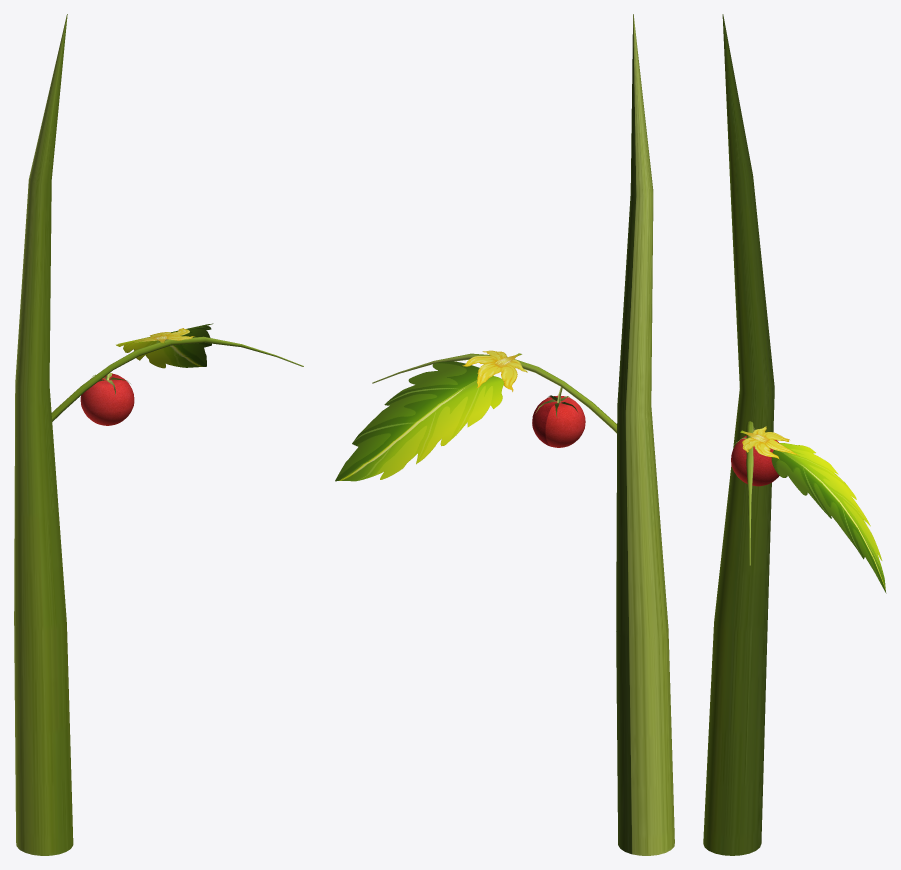
File: Tomato Plant Small 1.FBX
3 views of the same model, side by side, from view 1: azimuth 30°, elevation 25°; view 2: azimuth 150°, elevation 25°; view 3: azimuth 270°, elevation 25° (orthographic).
Visible parts, largest first — view 1: Stem_Scratch001, tomato_scratch001, leaf001, Stalk001; view 2: Stem_Scratch001, leaf001, tomato_scratch001, flower001, Stalk001; view 3: Stem_Scratch001, leaf001, tomato_scratch001, flower001, Stalk001.
Part boxes in pixels (<box>): Stem_Scratch001: <box>14,14,73,855</box>; tomato_scratch001: <box>80,373,134,425</box>; leaf001: <box>116,323,213,368</box>; Stalk001: <box>51,336,303,421</box>; Stem_Scratch001: <box>616,14,674,855</box>; leaf001: <box>335,361,503,481</box>; tomato_scratch001: <box>532,387,585,447</box>; flower001: <box>462,350,527,391</box>; Stalk001: <box>372,353,616,433</box>; Stem_Scratch001: <box>703,14,774,855</box>; leaf001: <box>771,443,886,593</box>; tomato_scratch001: <box>731,427,779,486</box>; flower001: <box>740,426,799,459</box>; Stalk001: <box>746,421,753,565</box>.
Bounding box in the file's own units: 201 × 545 × 108.
